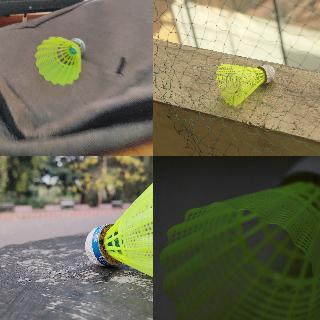shuttlecock: (159, 156, 319, 319), (84, 161, 152, 299), (216, 62, 274, 106), (36, 36, 86, 84)
